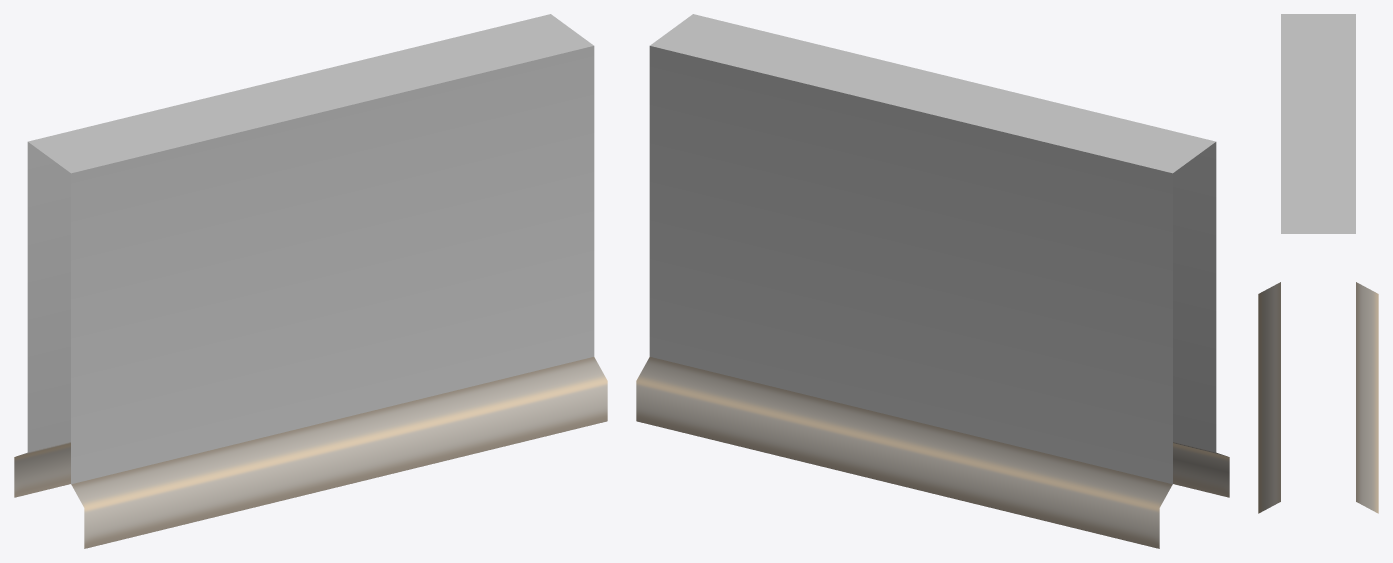
File: maushed wall testing.fbx
The picture shows the model from 3 angles, left to right: view 1: azimuth 30°, elevation 25°; view 2: azimuth 150°, elevation 25°; view 3: azimuth 270°, elevation 25°; orthographic projection. The views are drawn at different scales.
Visible parts, largest first — view 1: smushed_wall; view 2: smushed_wall; view 3: smushed_wall.
Boxes of the visible parts, x1,y1,x2,y2 form: smushed_wall: (14, 14, 607, 548); smushed_wall: (636, 14, 1229, 548); smushed_wall: (1258, 14, 1378, 513).
Bounding box in the file's own units: 4 × 2.67 × 0.9265.
